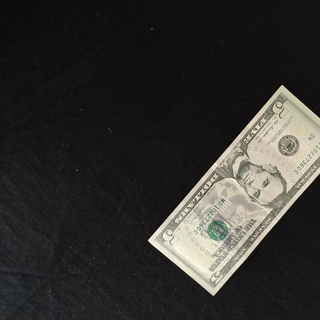5USDFront: (147, 84, 320, 297)
